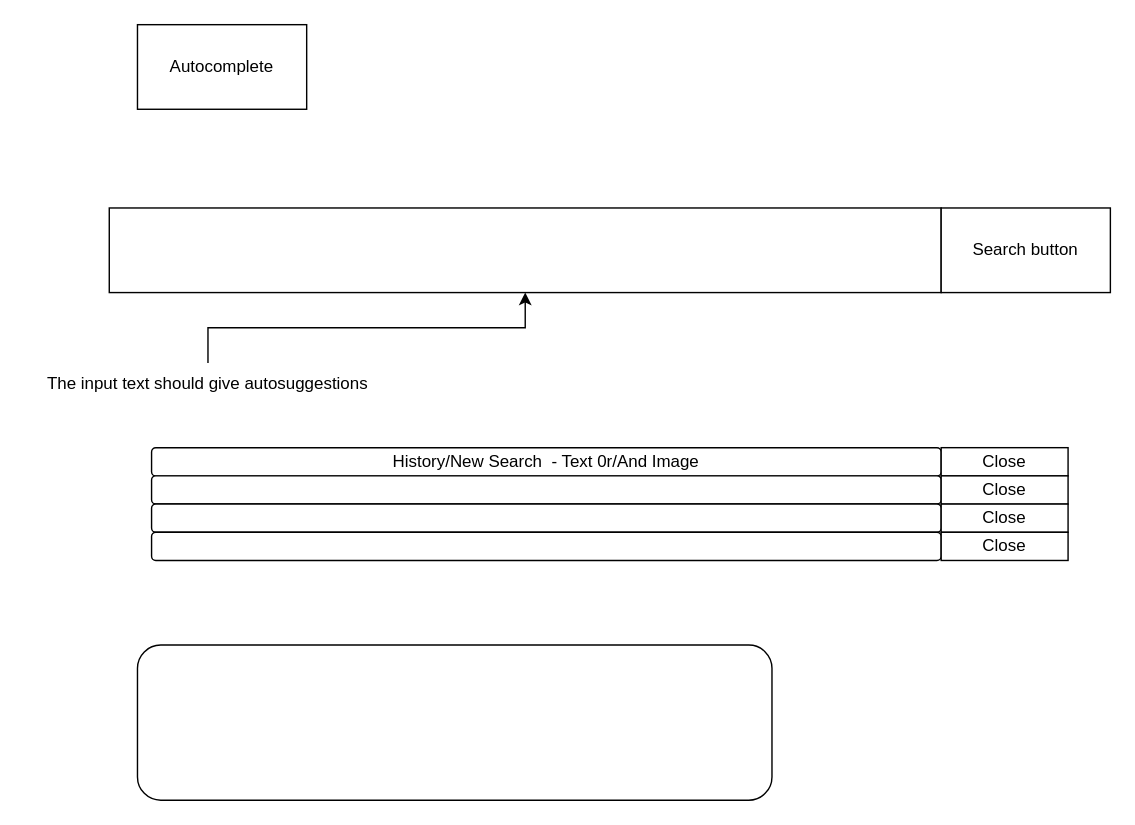
Some shapes in this 1135 by 825 pixel diagram are drawn without their labels. The centre of each missing label's shape, as x and y in pixels:
"Input Box" goes at pixel 524 250.
"Requirements - Make it generic, should be customisable" goes at pixel 454 722.
